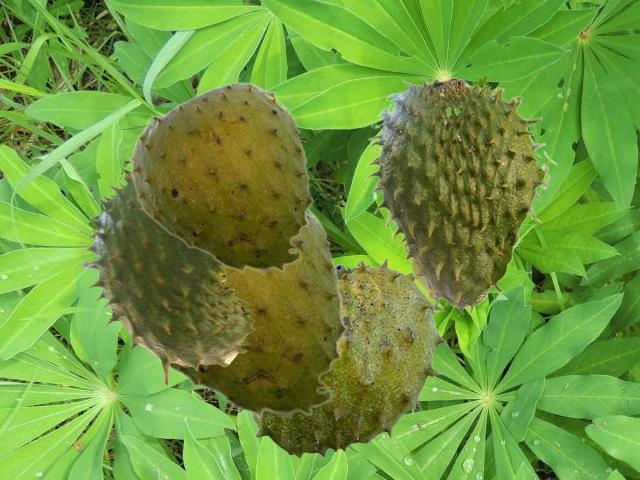guyabano: (364, 76, 557, 314), (144, 209, 347, 420), (237, 257, 447, 457), (82, 160, 255, 386), (127, 81, 313, 275)
